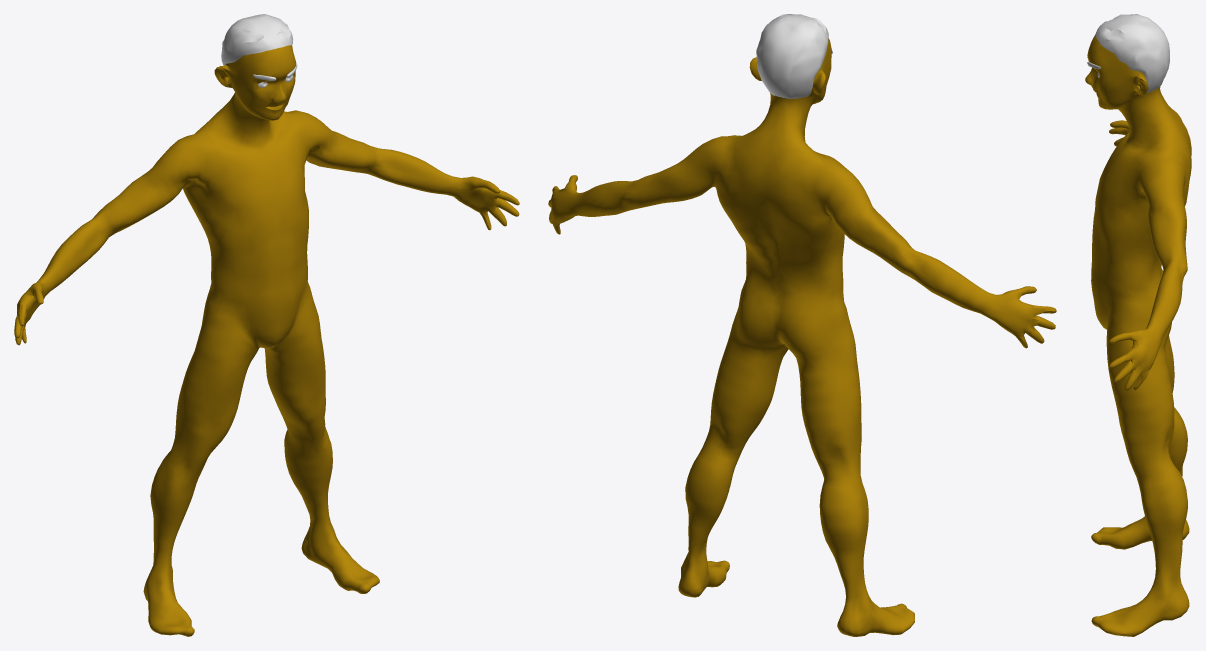
File: Young Shaman Fin.glb
The picture shows the model from 3 angles, left to right: view 1: azimuth 30°, elevation 25°; view 2: azimuth 150°, elevation 25°; view 3: azimuth 270°, elevation 25°; orthographic projection. The views are drawn at different scales.
Visible parts, largest first — view 1: Body_remesh_remesh, Hairt.1_remesh_remesh; view 2: Body_remesh_remesh, Hairt.1_remesh_remesh; view 3: Body_remesh_remesh, Hairt.1_remesh_remesh.
Part boxes in pixels (x1,y1,x2,y2): Body_remesh_remesh: (14, 45, 519, 636); Hairt.1_remesh_remesh: (221, 14, 293, 65); Body_remesh_remesh: (548, 38, 1056, 636); Hairt.1_remesh_remesh: (756, 14, 828, 98); Body_remesh_remesh: (1085, 34, 1191, 636); Hairt.1_remesh_remesh: (1095, 14, 1169, 92).
Bounding box in the file's own units: 1.44 × 1.6 × 0.2711.
